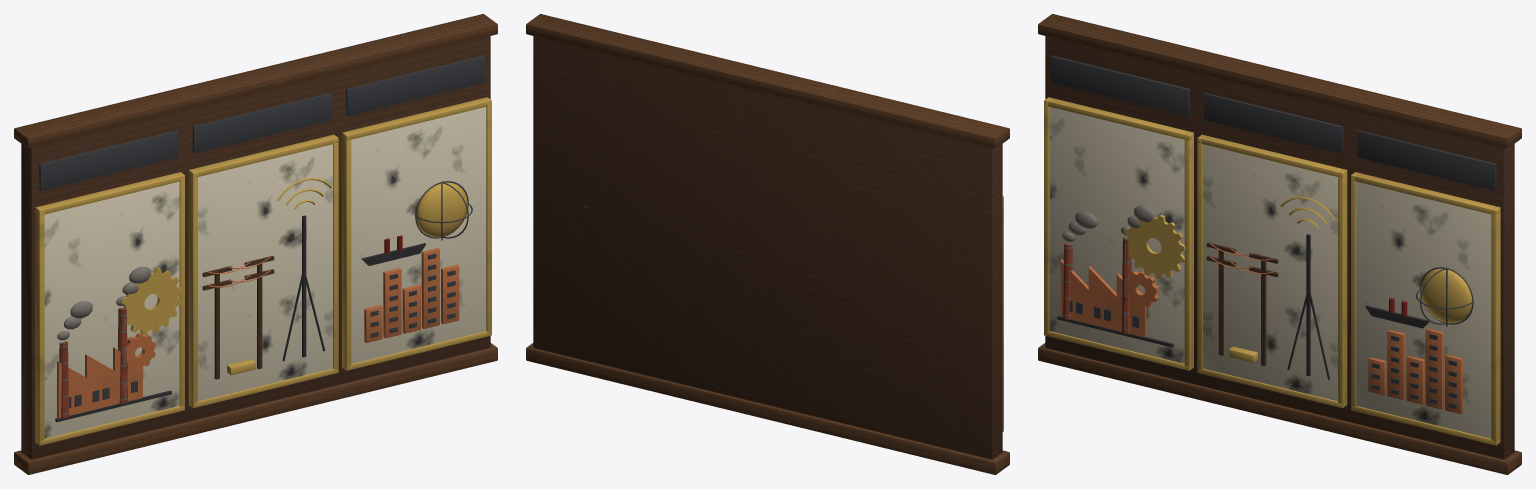
The model's file is change_wall_3.glb.
3 views of the same model, side by side, from view 1: azimuth 30°, elevation 25°; view 2: azimuth 150°, elevation 25°; view 3: azimuth 330°, elevation 25° (orthographic).
Visible parts, largest first — view 1: change_wall_3_static, globe_static; view 2: change_wall_3_static; view 3: change_wall_3_static, globe_static.
Part boxes in pixels (<box>): change_wall_3_static: <box>14,14,497,474</box>; globe_static: <box>415,181,472,240</box>; change_wall_3_static: <box>526,14,1009,474</box>; change_wall_3_static: <box>1038,14,1521,474</box>; globe_static: <box>1416,267,1473,326</box>.
Size of the model in its own units: 3.68 by 2.52 by 0.44.
Materials: 10 (9 with a texture image).
